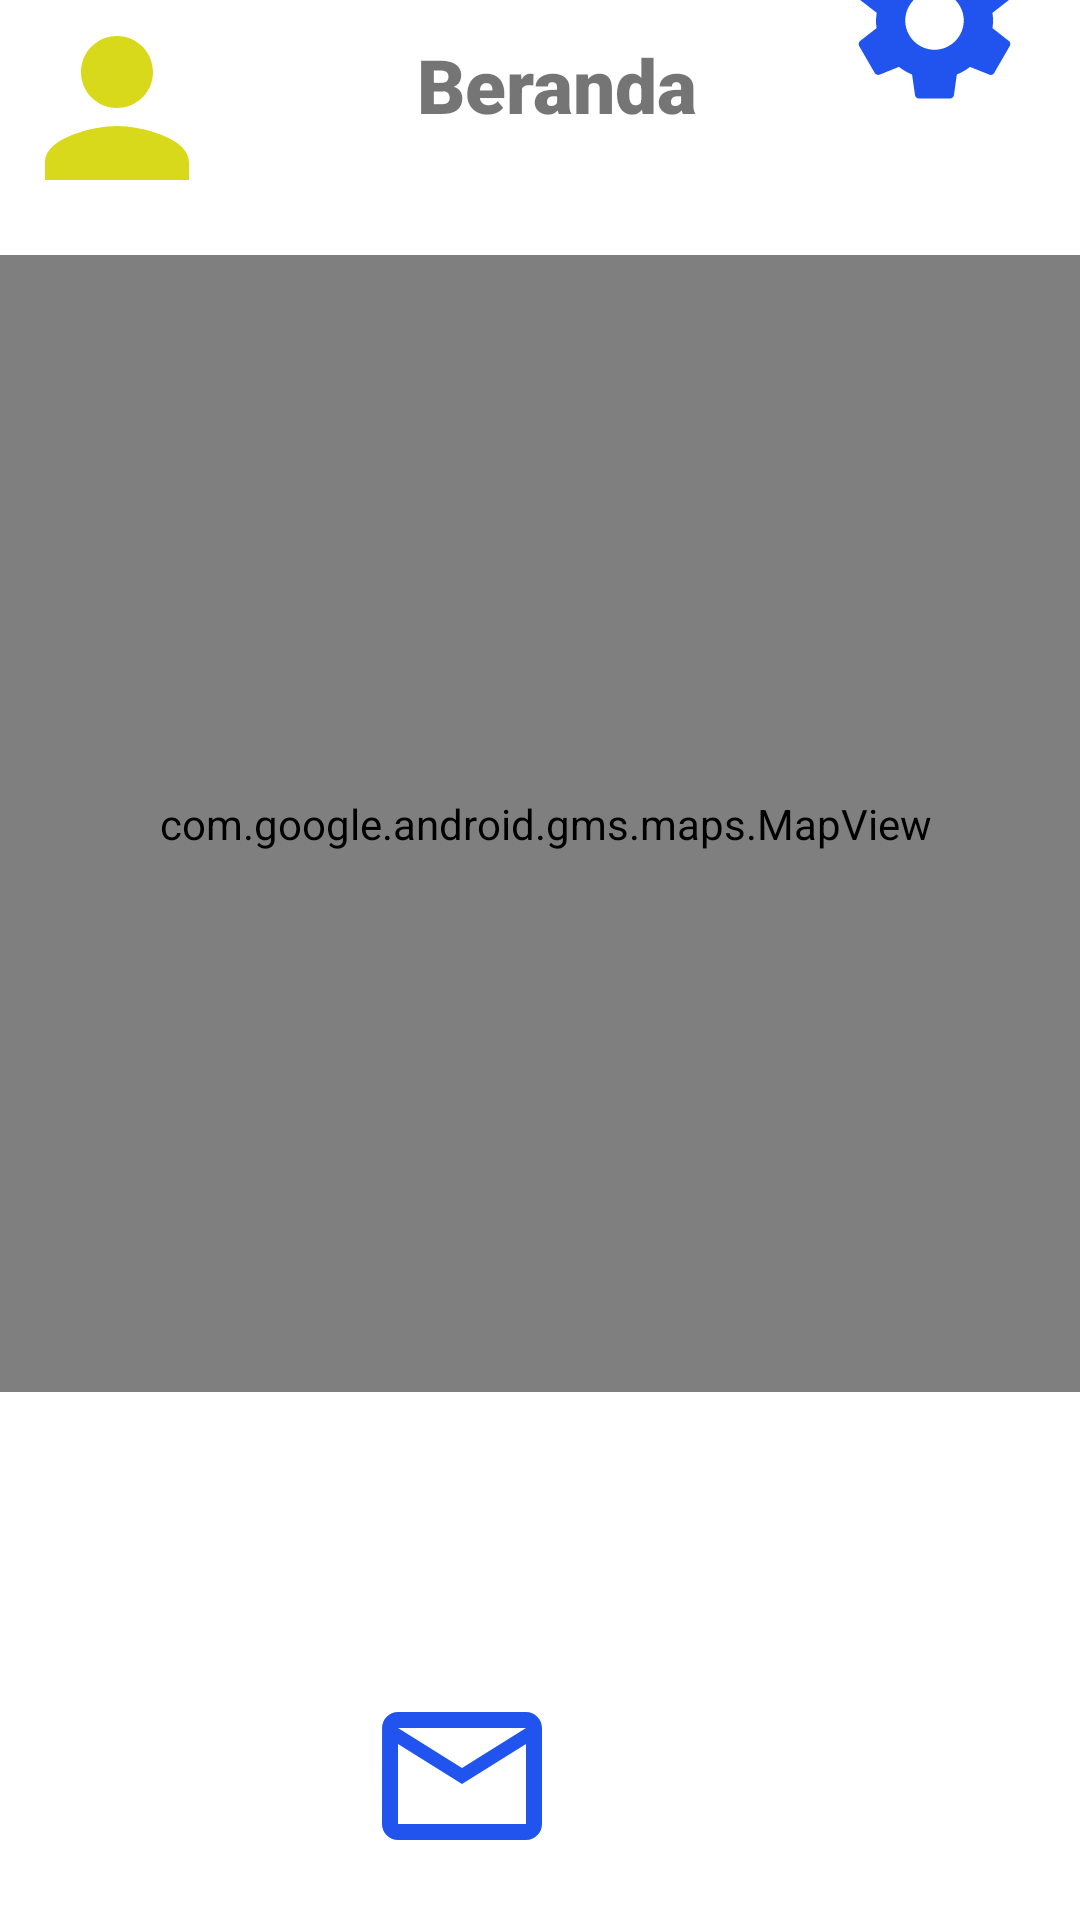

Locate icon controls on the screen. Image size 1080w x 1920h, boxes as (x1, y1, x2, y2).
me kuning: (45, 36, 189, 180)
message: (382, 1712, 542, 1840)
